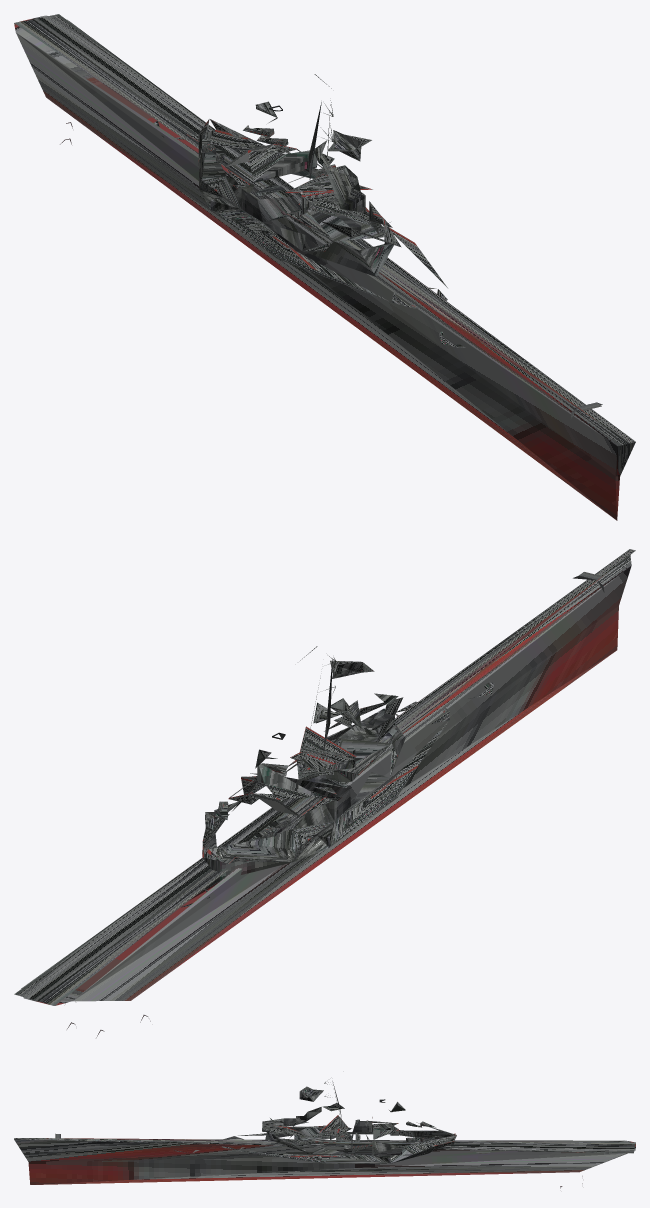
The picture shows the model from 3 angles, top to bottom: view 1: azimuth 30°, elevation 25°; view 2: azimuth 150°, elevation 25°; view 3: azimuth 270°, elevation 25°; orthographic projection. The views are drawn at different scales.
Visible parts, largest first — view 1: Object_3; view 2: Object_3; view 3: Object_3.
Part boxes in pixels (bbox=[...]): Object_3: bbox=[14, 14, 635, 520]; Object_3: bbox=[14, 549, 635, 1005]; Object_3: bbox=[14, 1081, 635, 1184].
Size of the model in its own units: 20.01 by 37.09 by 179.
1 material, 1 textured.
